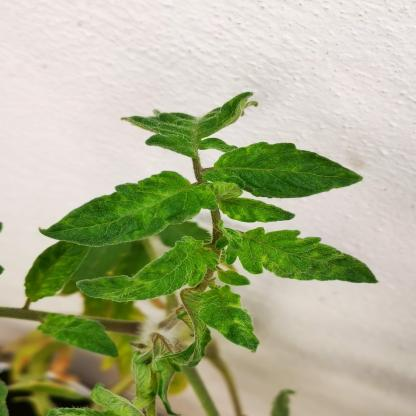T_L_R: (40, 171, 219, 247), (216, 221, 379, 284), (77, 237, 220, 302), (204, 143, 364, 200), (122, 92, 254, 160), (196, 286, 260, 354), (220, 198, 296, 223), (218, 270, 251, 286)
